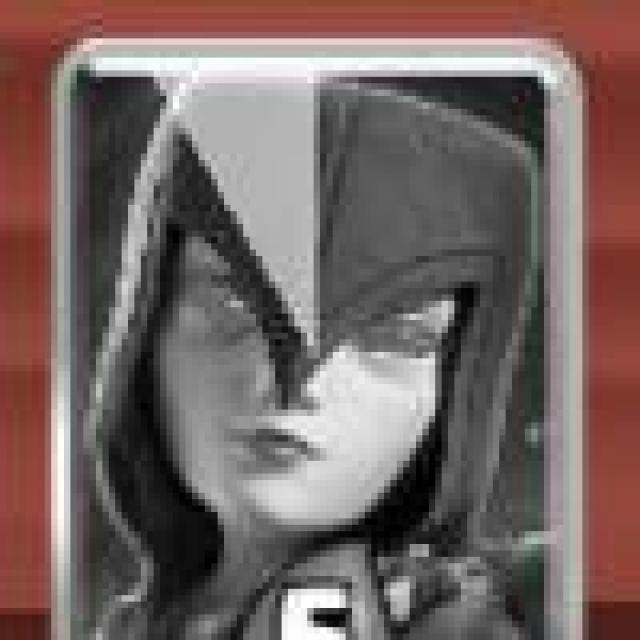Witch: (56, 42, 584, 640)
